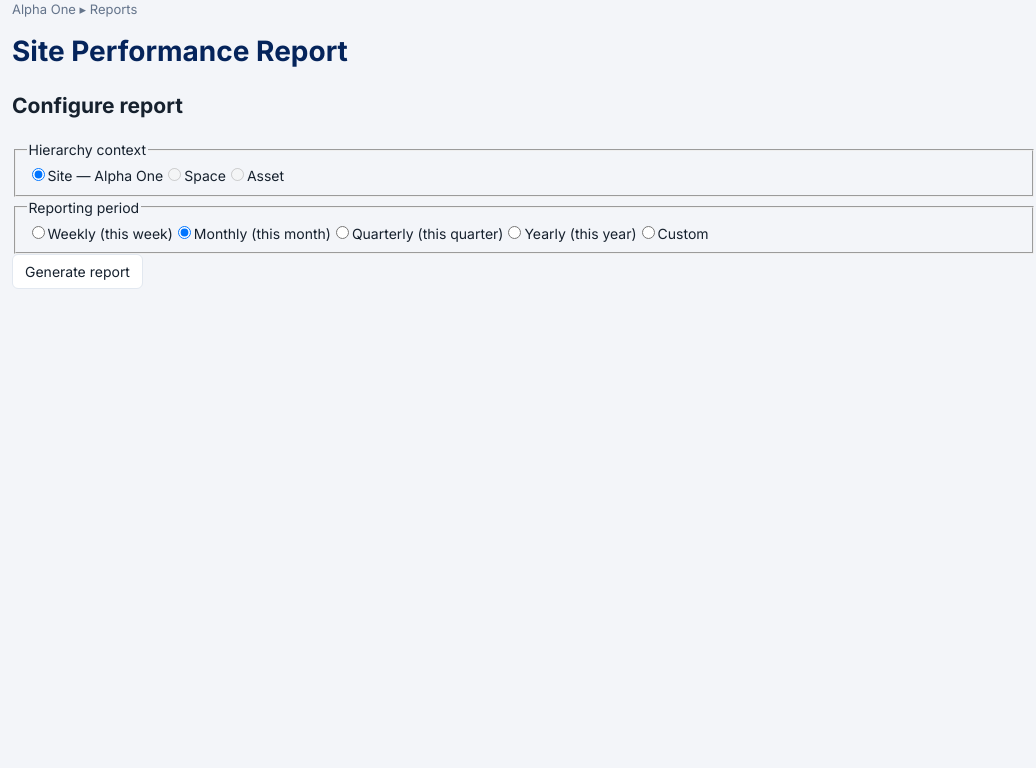
Test case: SitePerformanceReport -- orchestrates configuration <-> generated report (EMS-REQ-110) › starts on configuration, generates the report on demand, and 'Change' returns to configuration with the selection preserved
expect the element with test id "report-config" is shown: met, box [12, 90, 1035, 290]
Step 1. Click the button with test id "report-config-generate" → (78, 272), box [12, 254, 143, 290]
(page scrolled)
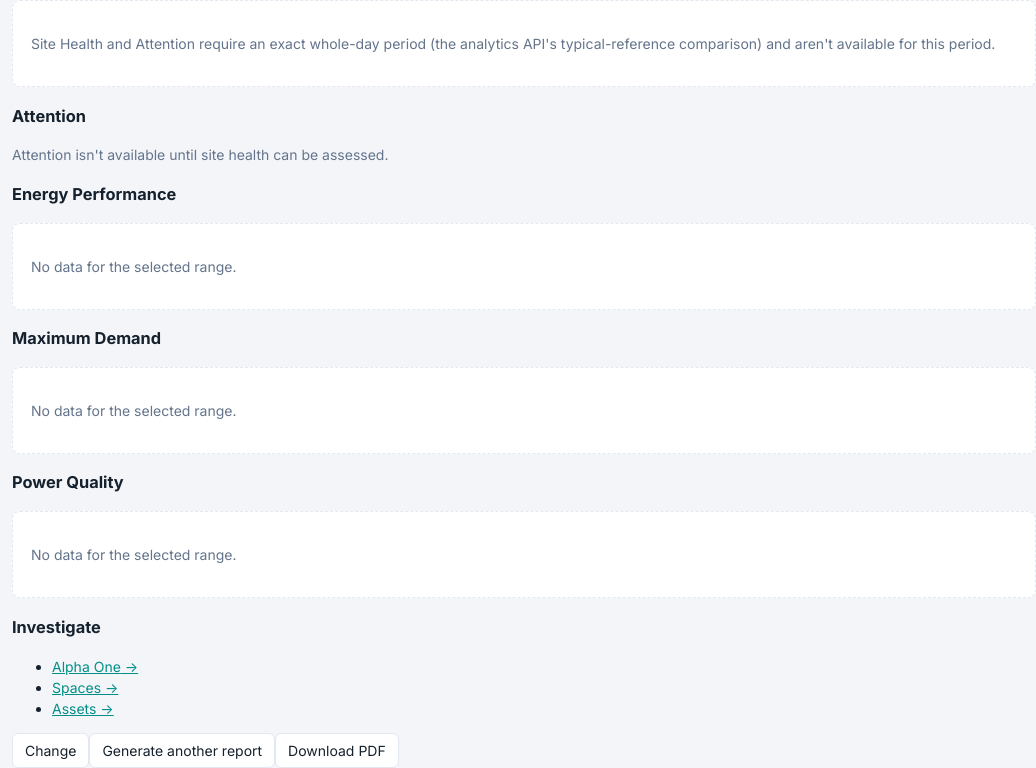
Step 2. Click the button with test id "report-change" → (51, 750), box [12, 733, 89, 767]
(page scrolled)
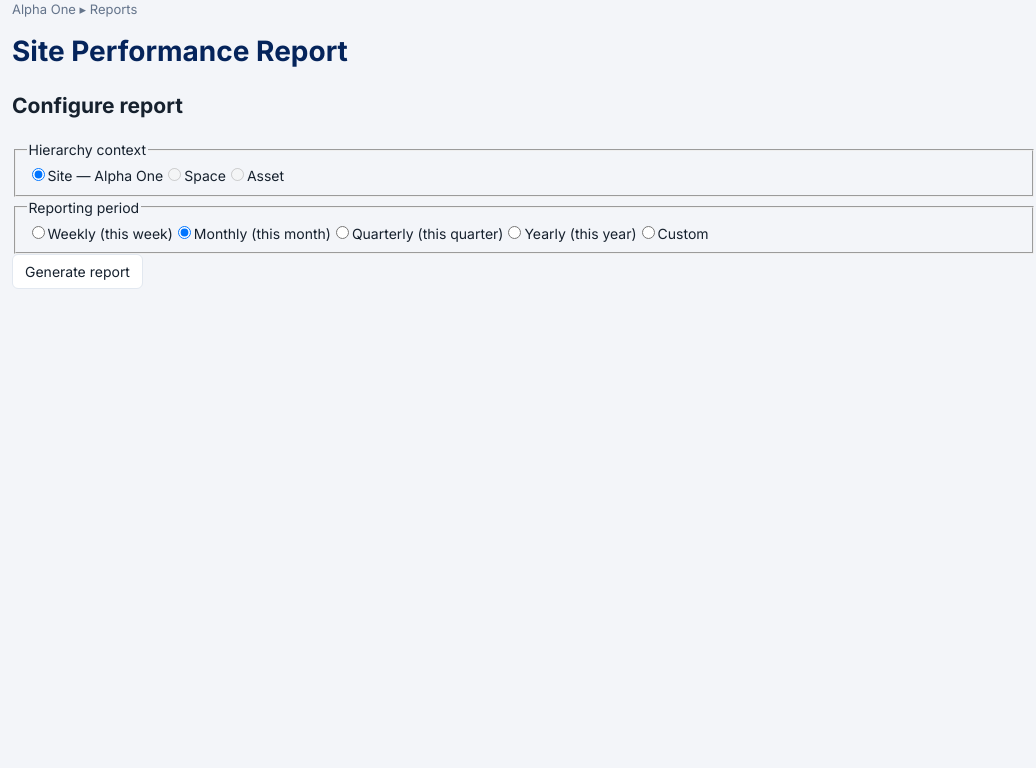
expect the element with test id "report-config" is shown: met, box [12, 90, 1035, 290]
expect the radio button labelled "Monthly (this month)" is checked: met, box [178, 226, 191, 239]
